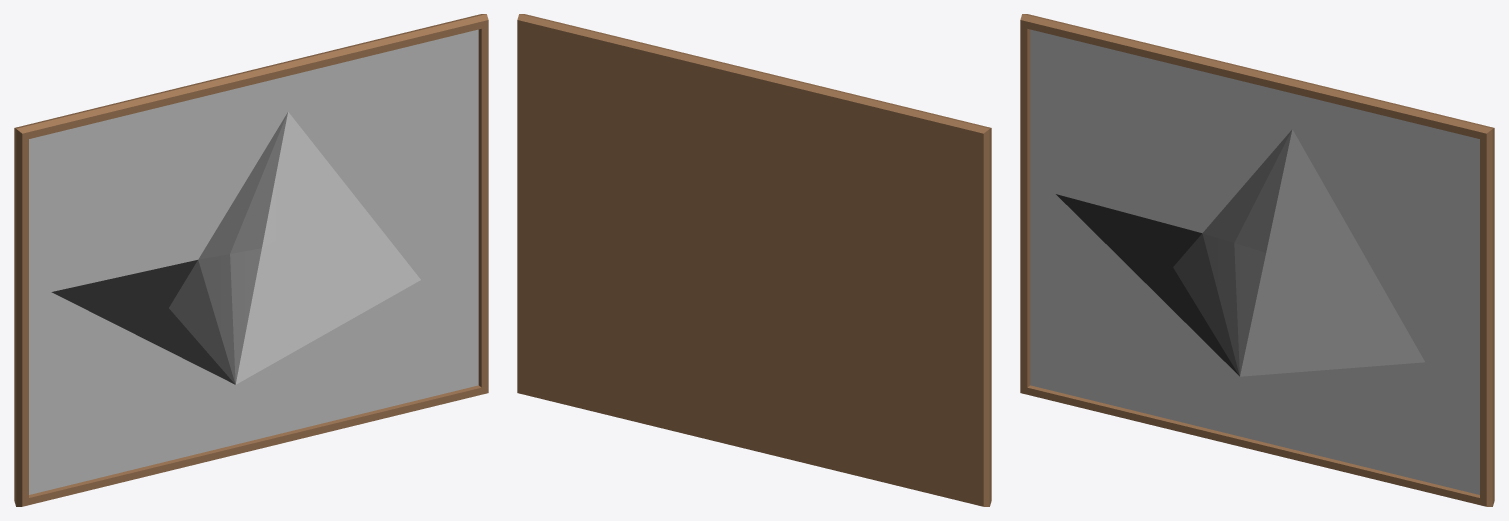
The model's file is Int_WallPainting02_2.fbx.
The picture shows the model from 3 angles, left to right: view 1: azimuth 30°, elevation 25°; view 2: azimuth 150°, elevation 25°; view 3: azimuth 330°, elevation 25°; orthographic projection.
Parts seen in each view (by area): view 1: Int_WallPainting02_2; view 2: Int_WallPainting02_2; view 3: Int_WallPainting02_2.
Boxes of the visible parts, box(x1,y1,x2,y2) form: Int_WallPainting02_2: box(14, 14, 488, 506); Int_WallPainting02_2: box(517, 14, 991, 506); Int_WallPainting02_2: box(1020, 14, 1494, 506).
Size of what is drawn, in the model's own units: 172 by 5 by 132.
